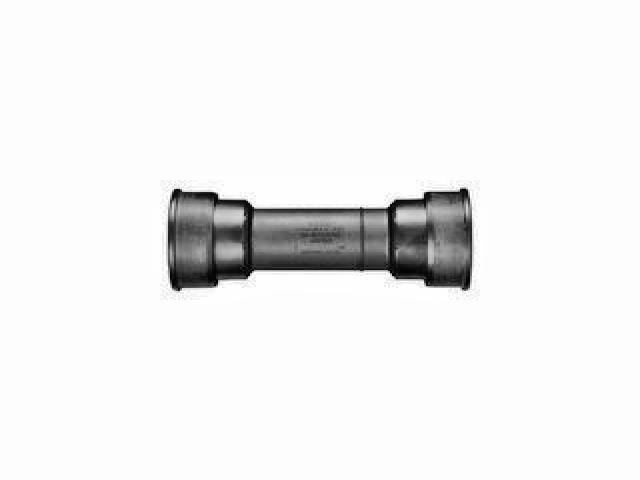bottom_bracket: (166, 186, 476, 292)
